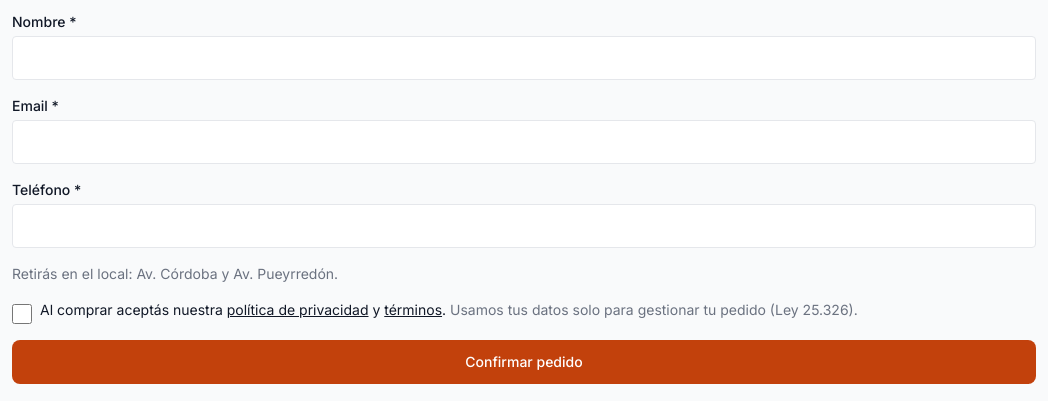
Test: CheckoutForm — errores del servidor (D5) › submit deshabilitado con aria-busy mientras está en vuelo
Type "Ana Gómez" into the field labelled "Nombre *".
click(524, 58); type("Ana Gómez")  # box 12,36 -> 1036,80
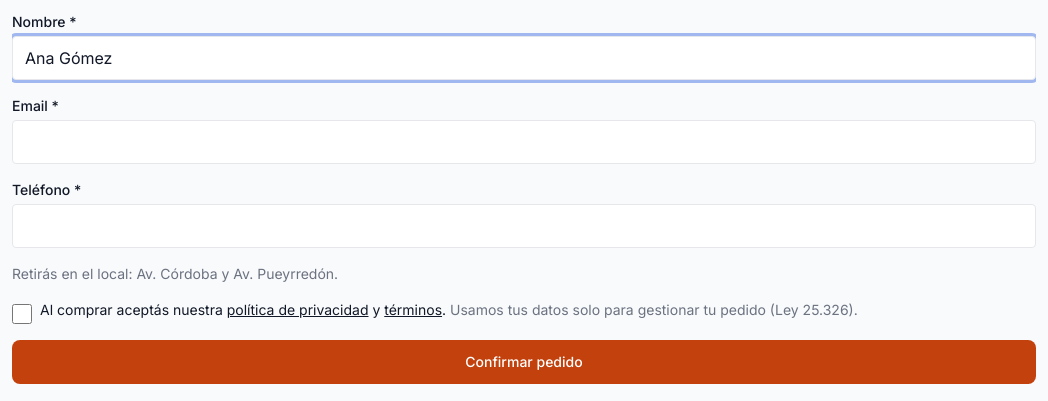
Type "ana@example.com" into the field labelled "Email *".
click(524, 142); type("ana@example.com")  # box 12,120 -> 1036,164
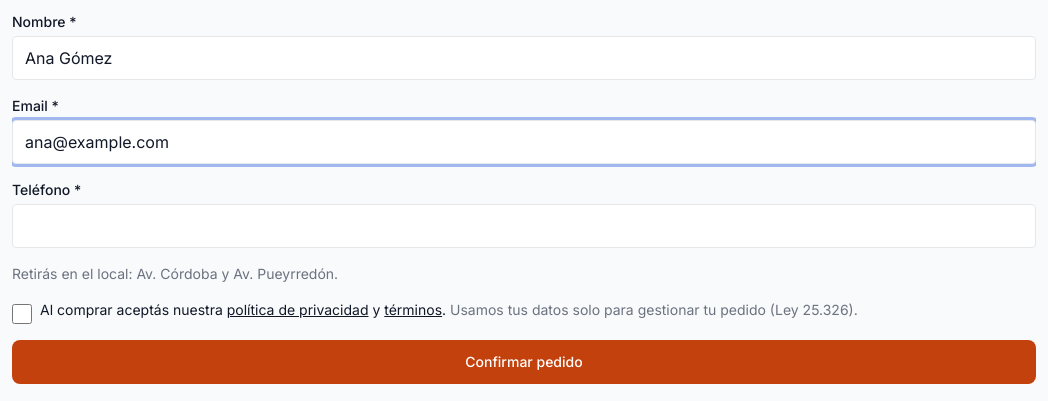
Type "+54 9 11 5555 5555" into the field labelled "Teléfono *".
click(524, 226); type("+54 9 11 5555 5555")  # box 12,204 -> 1036,248
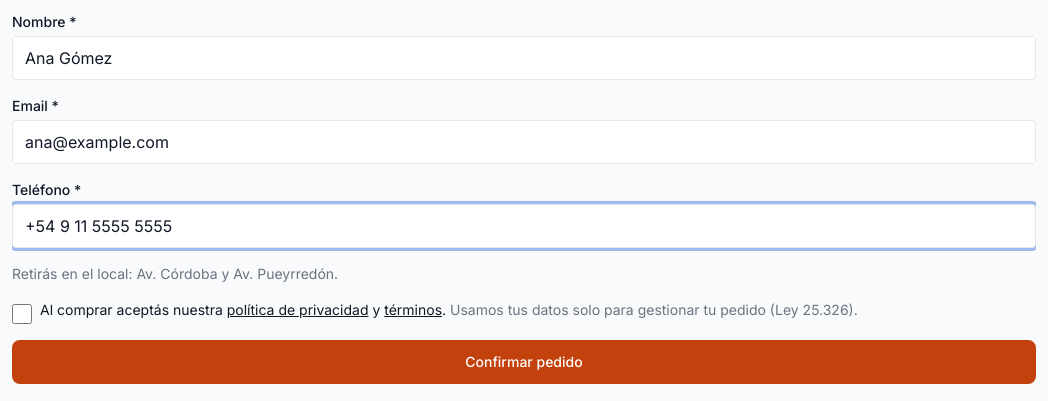
Click the checkbox.
click(22, 314)  # box 12,304 -> 32,324
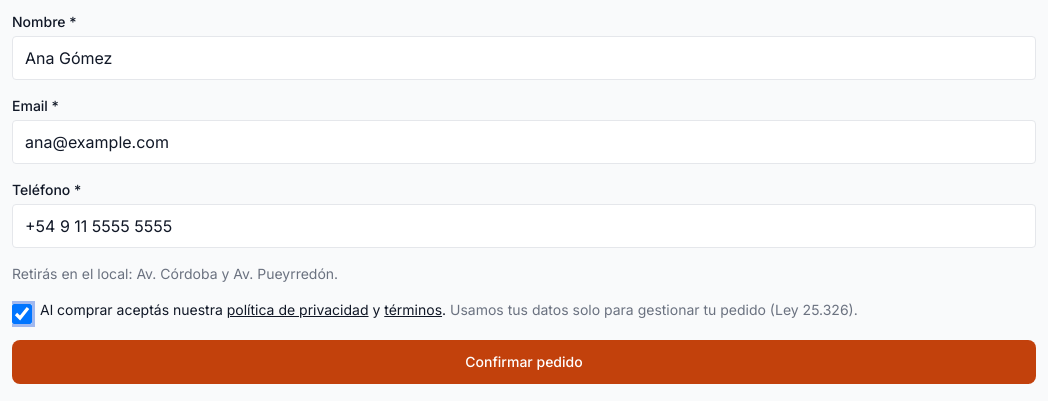
Click the button "Confirmar pedido".
click(524, 362)  # box 12,340 -> 1036,384
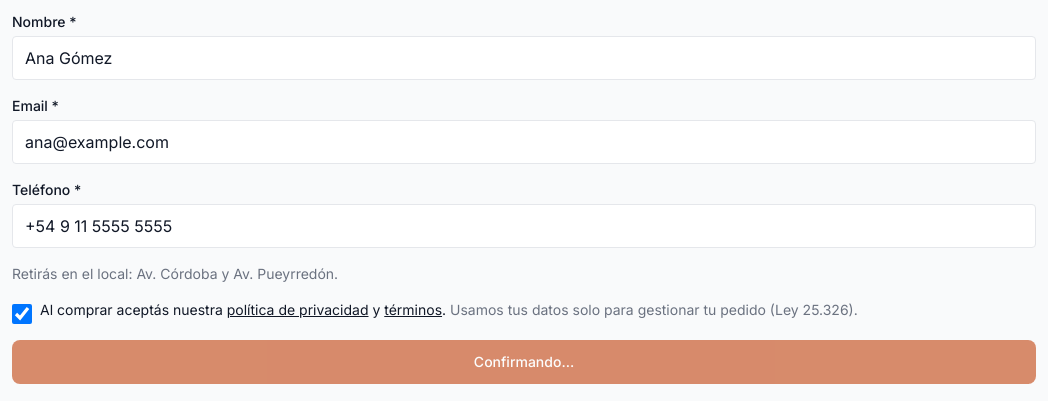
Expected: the button "Confirmando…" is disabled, 12,340 -> 1036,384
